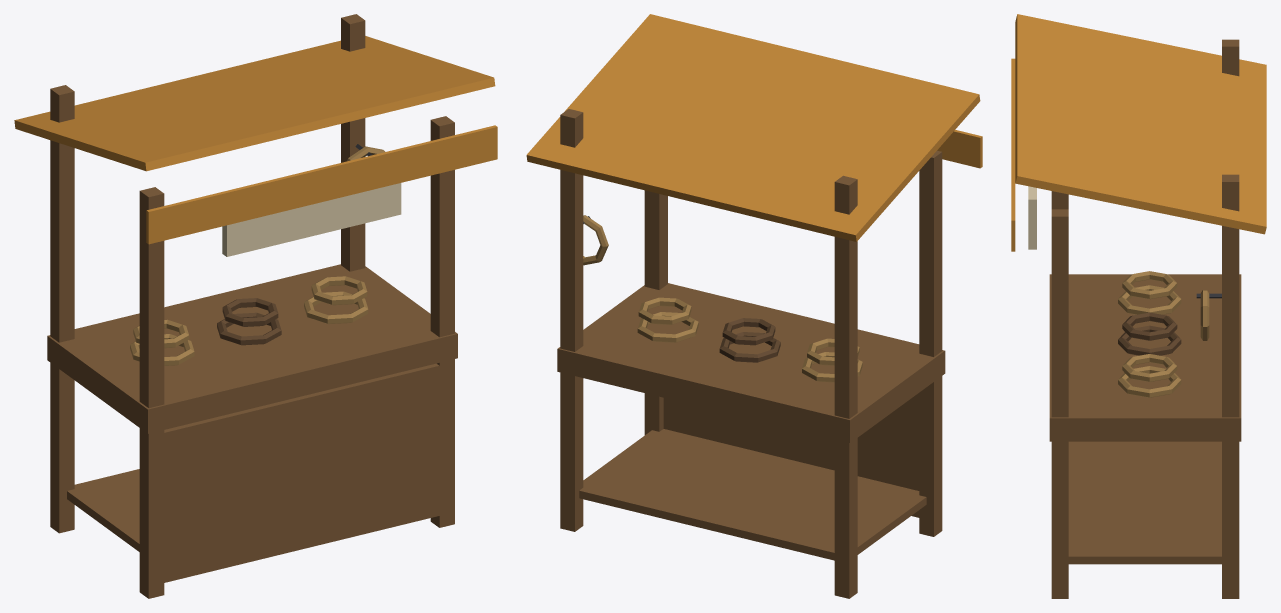
Rendered from Prop_YTM_Stall_Rope_LOD1.glb.
3 renders of one model, left to right at view 1: azimuth 30°, elevation 25°; view 2: azimuth 150°, elevation 25°; view 3: azimuth 270°, elevation 25°, orthographic. The views are drawn at different scales.
Parts seen in each view (by area): view 1: Prop_YTM_Stall_Rope, Prop_YTM_Stall_Rope_Goods; view 2: Prop_YTM_Stall_Rope, Prop_YTM_Stall_Rope_Goods; view 3: Prop_YTM_Stall_Rope, Prop_YTM_Stall_Rope_Goods.
Part boxes in pixels (x1=…): Prop_YTM_Stall_Rope: x1=14, y1=14, x2=497, y2=598; Prop_YTM_Stall_Rope_Goods: x1=130, y1=144, x2=385, y2=365; Prop_YTM_Stall_Rope: x1=526, y1=14, x2=982, y2=598; Prop_YTM_Stall_Rope_Goods: x1=583, y1=215, x2=862, y2=382; Prop_YTM_Stall_Rope: x1=1011, y1=14, x2=1266, y2=598; Prop_YTM_Stall_Rope_Goods: x1=1118, y1=271, x2=1221, y2=397.
Size of the model in its own units: 1.8 by 2.24 by 1.2.
